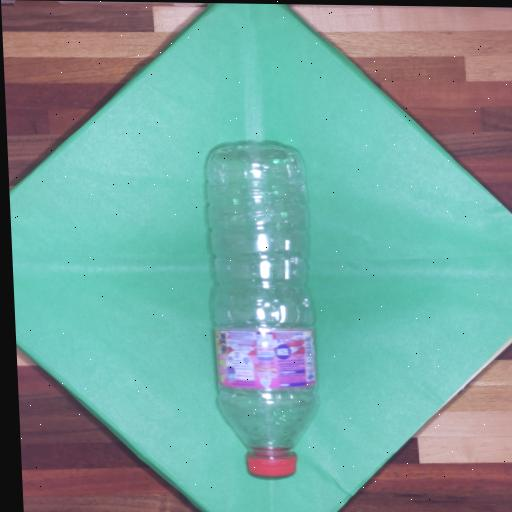bottle: (200, 142, 320, 480)
